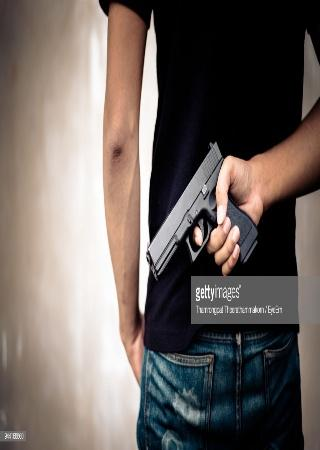criminal: (100, 0, 320, 450)
weapon: (146, 141, 260, 282)
